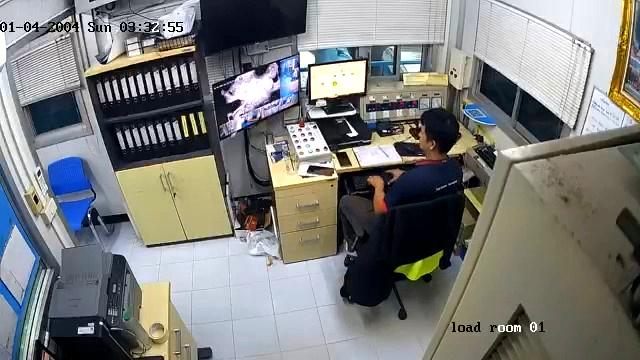Head: (417, 111, 462, 158)
People: (339, 109, 462, 243)
Phone: (306, 165, 334, 176), (334, 151, 352, 167)
